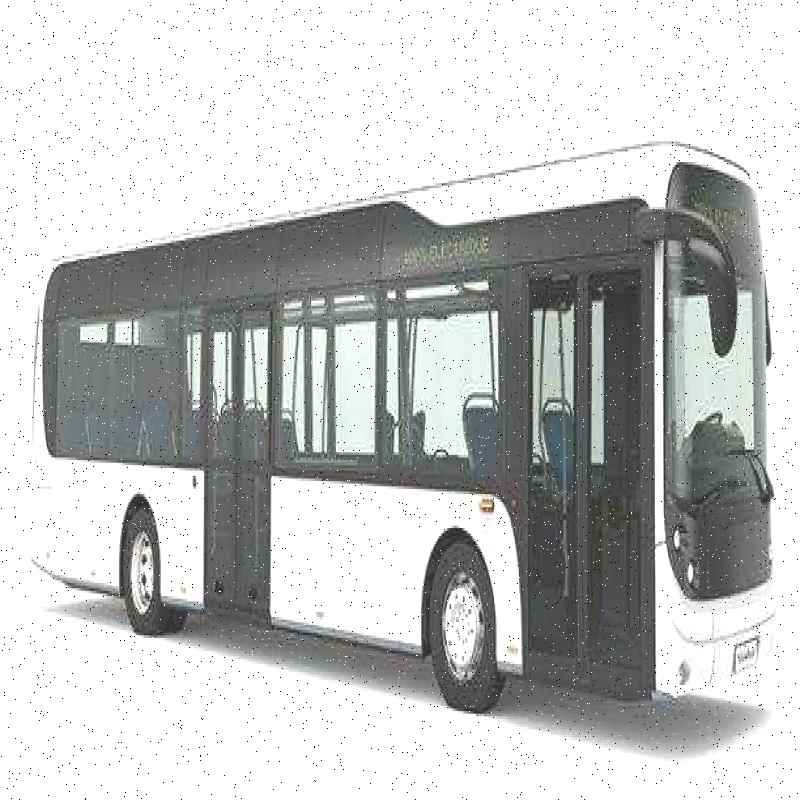bus: (22, 117, 800, 716)
